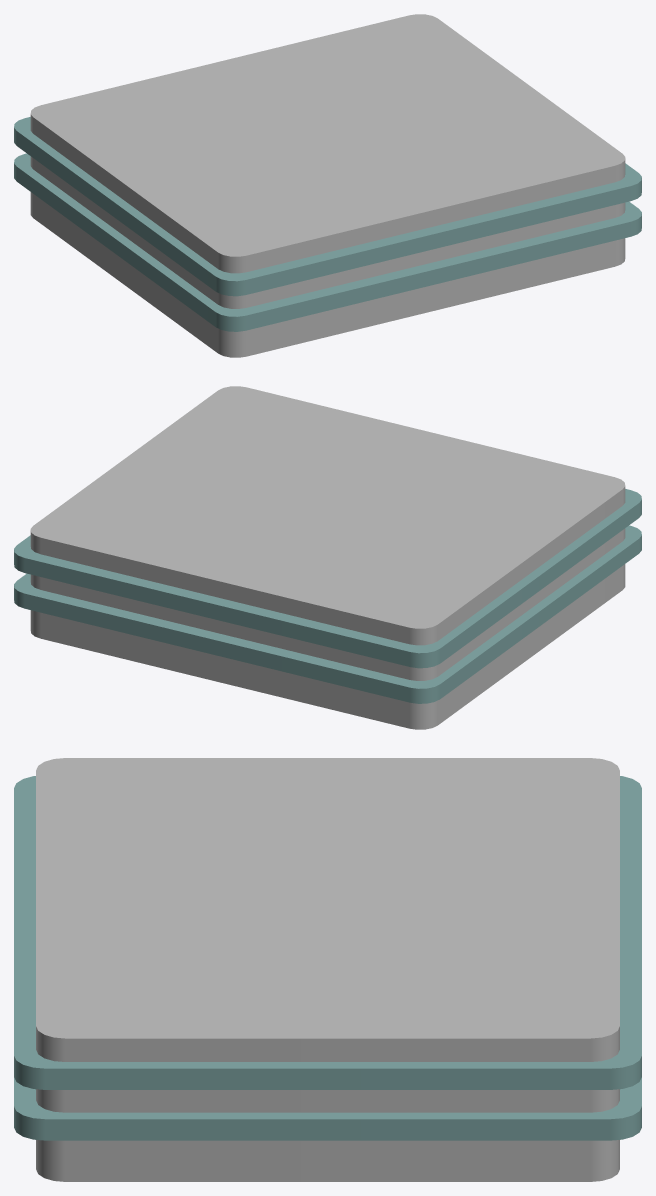
Rendered from SM_house_1-3.fbx.
3 renders of one model, top to bottom at view 1: azimuth 30°, elevation 25°; view 2: azimuth 150°, elevation 25°; view 3: azimuth 270°, elevation 25°, orthographic. The views are drawn at different scales.
Parts seen in each view (by area): view 1: polySurface267; view 2: polySurface267; view 3: polySurface267.
Part boxes in pixels (x1,y1,x2,y2): polySurface267: (14,14,641,357); polySurface267: (14,386,641,729); polySurface267: (14,758,641,1181).
Size of the model in its own units: 326 by 74.36 by 295.
